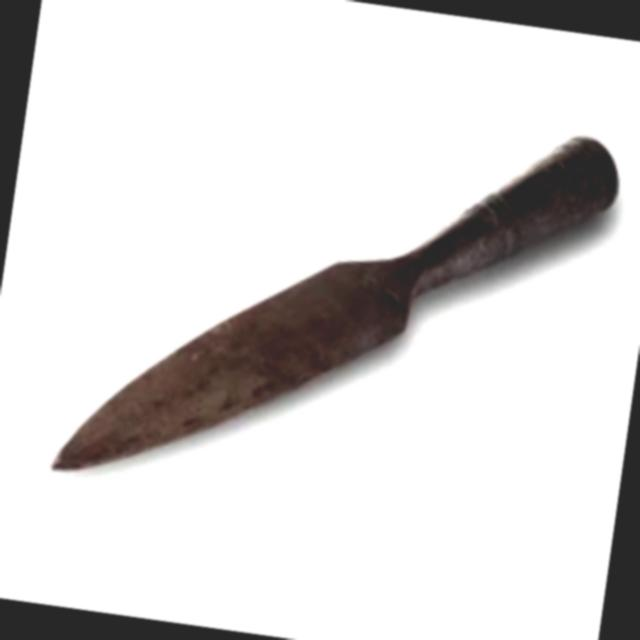spear: (36, 48, 640, 564)
